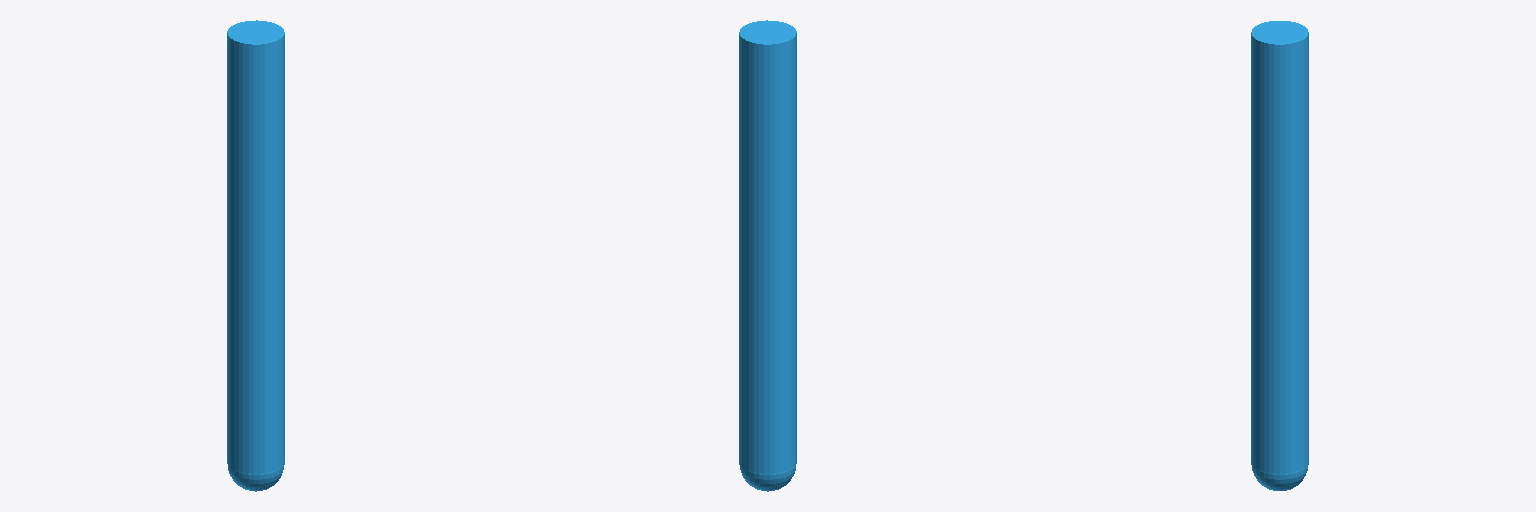
robot.urdf — bravo7:
<?xml version="1.0" encoding="utf-8"?>
<robot name="bravo7">
  <!-- ===== Materials ===== -->
  <material name="green2">
    <color rgba="0.235 0.702 0.443 1"/>
  </material>

  <material name="blue">
    <color rgba="0.263 0.733 0.984 1"/>
  </material>

  <material name="trans_black">
    <color rgba="0.8 0.8 0.8 1"/>
  </material>

  <material name="black2">
    <color rgba="0.8 0.8 0.8 1"/>
  </material>

  <material name="orange">
    <color rgba="1 0.369 0.047 1"/>
  </material>

  <material name="green">
    <color rgba="0 1 0 0.5"/>
  </material>

  <material name="bravo_black">
    <color rgba="0.3 0.3 0.3 0.7"/>
  </material>

  <material name="bravo_jaws_black">
    <color rgba="0.3 0.3 0.3 1"/>
  </material>

  <!-- ===== Links & Joints ===== -->
  <link name="bravo_base_link"/>

  <link name="link1">
    <!-- Inertial corrected into geometry frame -->
    <inertial>
      <origin xyz="0.0525 -0.001 0.04345" rpy="0 0 0"/>
      <mass value="1.85"/>
      <inertia ixx="0.002528" ixy="-2.0e-05" ixz="2.3e-05"
               iyy="0.002593" iyz="-7.0e-06" izz="0.003312"/>
    </inertial>
    <visual>
      <geometry>
        <mesh filename="package://bpl_bravo_description/meshes_pinocchio/RS2-266.stl"/>
      </geometry>
      <material name="blue"/>
    </visual>
  </link>

  <joint name="base_fixed" type="fixed">
    <parent link="bravo_base_link"/>
    <child link="link1"/>
    <origin rpy="0 0 0"/>
  </joint>

  <link name="link2">
    <inertial>
      <origin xyz="-0.03 0.01 0.06145" rpy="0 0 0"/>
      <mass value="1.62"/>
      <inertia ixx="0.003179" ixy="0.000233" ixz="0.001024"
               iyy="0.004209" iyz="-0.000344" izz="0.002387"/>
    </inertial>
    <visual>
      <geometry>
        <mesh filename="package://bpl_bravo_description/meshes_pinocchio/RS2-217.stl"/>
      </geometry>
      <material name="green2"/>
    </visual>
  </link>

  <joint name="joint1" type="revolute">
    <parent link="link1"/>
    <child link="link2"/>
    <origin rpy="0 0 0" xyz="0.0665 0 0.078"/>
    <axis xyz="0 0 -1"/>
    <limit effort="9.0" lower="0.0" upper="6.3" velocity="0.5"/>
  </joint>

  <link name="link3">
    <inertial>
      <origin xyz="-0.0241436 0.00399889 -0.1620485" rpy="0 0 0"/>
      <mass value="2.12"/>
      <inertia ixx="0.0352226436" ixy="-2.26528218e-05" ixz="0.00129923425"
               iyy="0.0359810399" iyz="0.00315070263" izz="0.00336331658"/>
    </inertial>
    <visual>
      <geometry>
        <mesh filename="package://bpl_bravo_description/meshes_pinocchio/RS2-250-212-214.stl"/>
      </geometry>
      <material name="blue"/>
    </visual>
  </link>

  <joint name="joint2" type="revolute">
    <parent link="link2"/>
    <child link="link3"/>
    <origin rpy="0 0 0" xyz="-0.046 0 0.0674"/>
    <axis xyz="0 1 0"/>
    <limit effort="9.0" lower="0.0" upper="3.5" velocity="0.5"/>
  </joint>

  <link name="link4">
    <inertial>
      <origin xyz="0.03499989 -0.00300155 0.05931046" rpy="0 0 0"/>
      <mass value="1.33"/>
      <inertia ixx="0.001809" ixy="-0.000156" ixz="-0.000398"
               iyy="0.002024" iyz="-0.000197" izz="0.001557"/>
    </inertial>
    <visual>
      <geometry>
        <mesh filename="package://bpl_bravo_description/meshes_pinocchio/RS2-268.stl"/>
      </geometry>
      <material name="green2"/>
    </visual>
  </link>

  <joint name="joint3" type="revolute">
    <parent link="link3"/>
    <child link="link4"/>
    <origin rpy="0 0 0" xyz="-0.0052 0 -0.29055"/>
    <axis xyz="0 1 0"/>
    <limit effort="9.0" lower="0.0" upper="3.5" velocity="0.5"/>
  </joint>

  <link name="link5">
    <inertial>
      <origin xyz="-0.02699995 0.01199816 0.06136048" rpy="0 0 0"/>
      <mass value="1.33"/>
      <inertia ixx="0.001983" ixy="0.00018" ixz="0.000641"
               iyy="0.002676" iyz="-0.000264" izz="0.001526"/>
    </inertial>
    <visual>
      <geometry>
        <mesh filename="package://bpl_bravo_description/meshes_pinocchio/RS2-214.stl"/>
      </geometry>
      <material name="blue"/>
    </visual>
  </link>

  <joint name="joint4" type="revolute">
    <parent link="link4"/>
    <child link="link5"/>
    <origin rpy="0 0 0" xyz="0.0408 0 0.09695"/>
    <axis xyz="0 0 -1"/>
    <limit effort="9.0" lower="0.0" upper="6.3" velocity="0.5"/>
  </joint>

  <link name="link6">
    <inertial>
      <origin xyz="-0.02999999 -0.00600209 -0.02537941" rpy="0 0 0"/>
      <mass value="0.97"/>
      <inertia ixx="0.001272" ixy="0.000116" ixz="-0.000346"
               iyy="0.001511" iyz="0.000189" izz="0.001205"/>
    </inertial>
    <visual>
      <geometry>
        <mesh filename="package://bpl_bravo_description/meshes_pinocchio/RS2-161.stl"/>
      </geometry>
      <material name="green2"/>
    </visual>
  </link>

  <joint name="joint5" type="revolute">
    <parent link="link5"/>
    <child link="link6"/>
    <origin rpy="0 0 0" xyz="-0.0408 0 0.063"/>
    <axis xyz="0 1 0"/>
    <limit effort="9.0" lower="0.0" upper="3.5" velocity="0.5"/>
  </joint>

  <link name="link7">
    <inertial>
      <origin xyz="-0.000999865 -0.00000344664 0.0247494355" rpy="0 0 0"/>
      <mass value="1.09"/>
      <inertia ixx="0.00197699995" ixy="1.88170062e-10" ixz="-1.50015577e-05"
               iyy="0.00198600003" iyz="-9.87966436e-07" izz="0.00103500002"/>
    </inertial>
    <visual>
      <geometry>
        <mesh filename="package://bpl_bravo_description/meshes_pinocchio/RS2-180.stl"/>
      </geometry>
      <material name="blue"/>
    </visual>
  </link>

  <joint name="joint6" type="revolute">
    <parent link="link6"/>
    <child link="link7"/>
    <origin rpy="0 3.14159 0" xyz="-0.0408 0 -0.08863"/>
    <axis xyz="0 0 -1"/>
    <limit effort="9.0" lower="0.0" upper="6.3" velocity="0.5"/>
  </joint>

  <joint name="bravo_jaws_joint" type="fixed">
    <origin rpy="0 0 0" xyz="0 0 0.124"/>
    <parent link="link7"/>
    <child link="bravo_jaws_base_link"/>
  </joint>

  <link name="bravo_jaws_base_link"/>

  <!-- contact_point_joint -->
  <joint name="contact_point_joint" type="fixed">
    <!-- 0.16/0.185 for plastic/metal tool with boardmarker-->
    <!-- 0.15/0.21 for blue/white polymer tool with sponge -->
    <origin rpy="0 0 0" xyz="0 0 0.2"/>
    <parent link="link7"/>
    <child link="contact_point"/>
  </joint>

  <!-- contact_point -->
  <link name="contact_point">
    <visual>
      <origin rpy="0 0 0" xyz="0 0 0"/>
      <geometry>
        <sphere radius="0.01"/>
      </geometry>
      <material name="blue"/>
    </visual>
  </link>

  <link name="end_effector">
    <visual>
      <origin rpy="0 0 0" xyz="0 0 0"/>
      <geometry>
        <cylinder radius="0.01" length="0.165"/>
      </geometry>
      <material name="blue"/>
    </visual>
  </link>

  <joint name="tool" type="fixed">
    <parent link="contact_point"/>
    <child link="end_effector"/>
    <origin rpy="0 0 0" xyz="0 0 -0.083"/>
  </joint>
</robot>

--- Render facts (derived) ---
The picture shows the robot from 3 angles, left to right: view 1: azimuth 30°, elevation 25°; view 2: azimuth 150°, elevation 25°; view 3: azimuth 270°, elevation 25°; orthographic projection.
Robot: bravo7 — 11 links, 10 joints (6 revolute, 4 fixed); root link bravo_base_link; default pose: all joints at 0.
Visible links, largest first — view 1: end_effector, contact_point; view 2: end_effector, contact_point; view 3: end_effector, contact_point.
Boxes of the visible links, bbox=[...] form: end_effector: bbox=[227, 20, 284, 473]; contact_point: bbox=[227, 462, 284, 491]; end_effector: bbox=[739, 20, 796, 473]; contact_point: bbox=[739, 462, 796, 491]; end_effector: bbox=[1251, 21, 1308, 473]; contact_point: bbox=[1251, 462, 1308, 490].
Bounding box of the posed robot: 0.02 × 0.02 × 0.1755 m (x, y, z).
Meshes: 7 distinct files referenced, 0 mesh visuals loaded (none loaded); not drawn: 7 (reference not matched to a file when rendering).